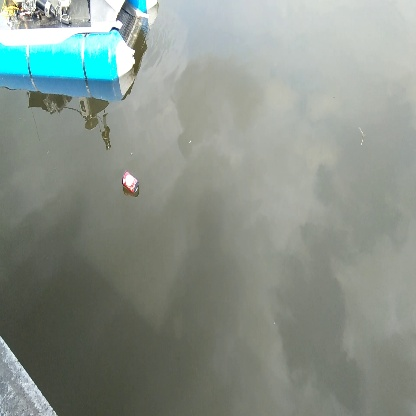bottle: (119, 169, 142, 194)
